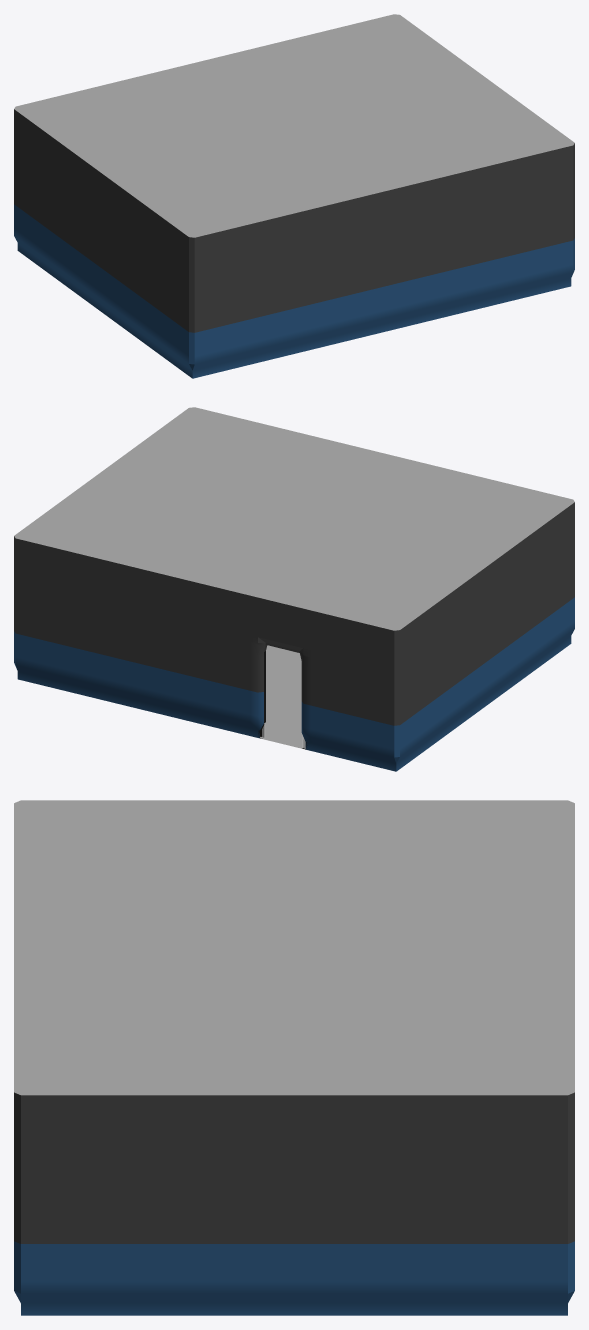
File: Room.fbx
3 views of the same model, one above another, from view 1: azimuth 30°, elevation 25°; view 2: azimuth 150°, elevation 25°; view 3: azimuth 270°, elevation 25° (orthographic). The views are drawn at different scales.
Visible parts, largest first — view 1: pPlane96; view 2: pPlane96; view 3: pPlane96.
Boxes of the visible parts, x1,y1,x2,y2 form: pPlane96: [14, 14, 574, 378]; pPlane96: [14, 407, 574, 771]; pPlane96: [14, 800, 574, 1315].
Bounding box in the file's own units: 1020 × 360 × 820.
